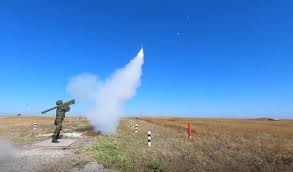ten_lua: (139, 43, 145, 51)
